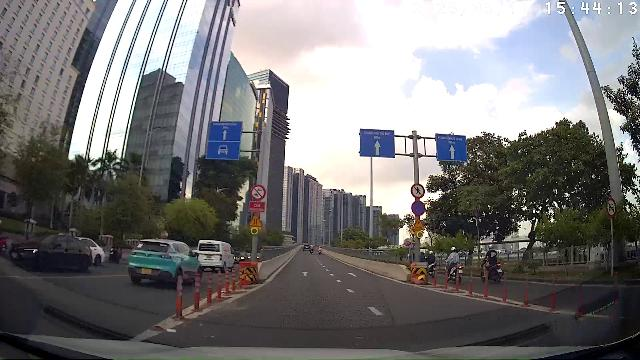103a-cam-oto: (606, 197, 616, 217)
130-cam-dung-va-do-xe: (411, 200, 425, 216)
